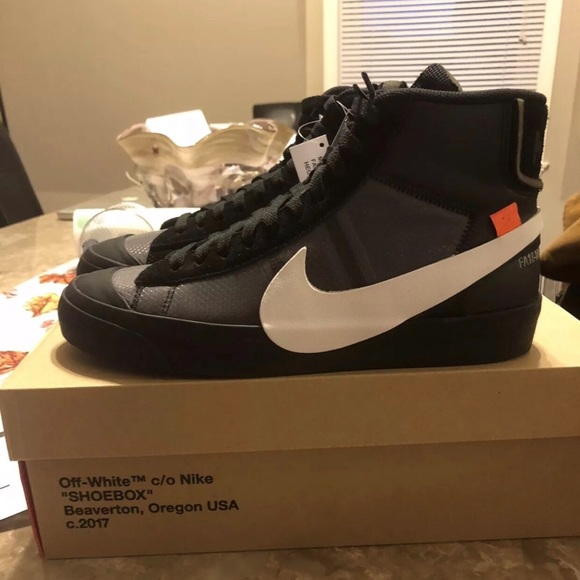Nike Blazer Grim Reaper: (56, 62, 557, 382)
